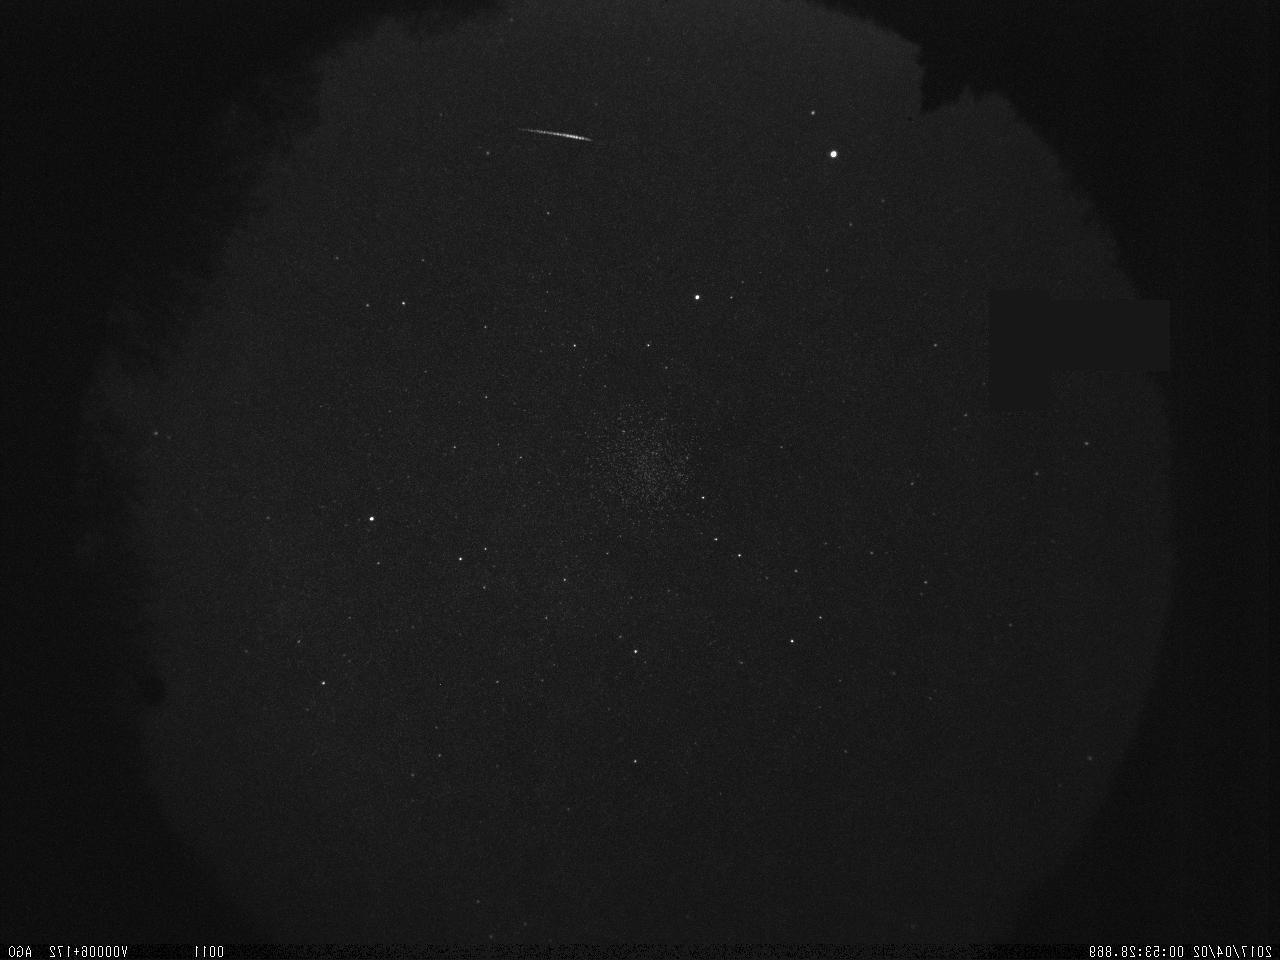meteor: (507, 108, 617, 159)
